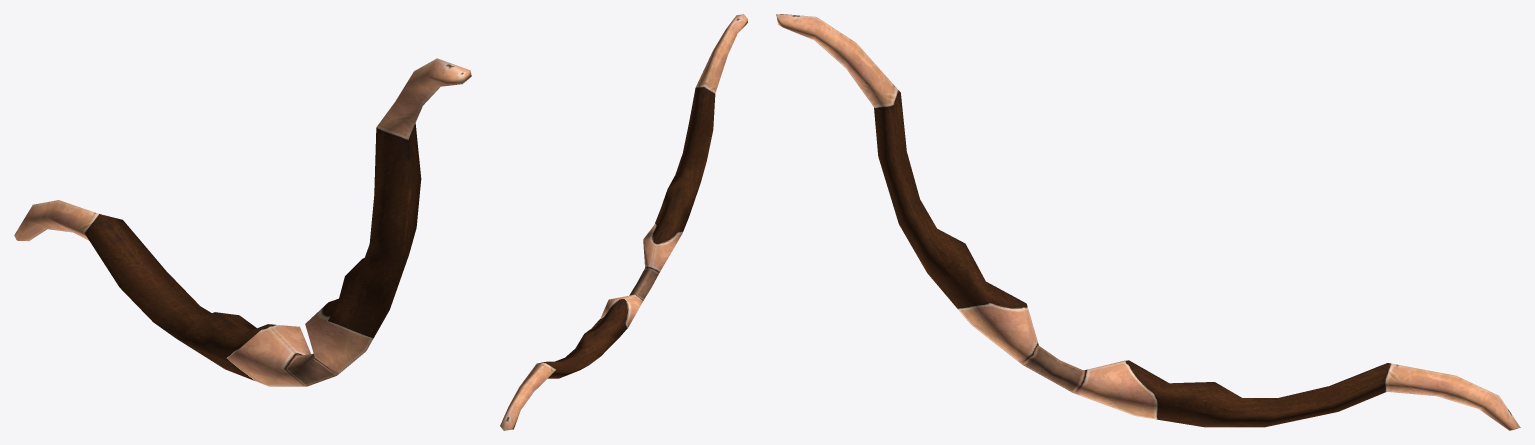
File: rangedweapon-female-copperweapons.glb
3 renders of one model, left to right at view 1: azimuth 30°, elevation 25°; view 2: azimuth 150°, elevation 25°; view 3: azimuth 270°, elevation 25°, orthographic. The views are drawn at different scales.
Bounding box in the file's own units: 0.1118 × 0.7884 × 1.3.
1 material, 1 textured.
